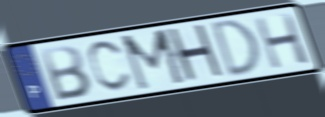B: (38, 43, 94, 103)
C: (86, 38, 134, 94)
D: (210, 17, 265, 81)
H: (165, 22, 229, 86), (252, 11, 313, 72)
M: (118, 26, 190, 94)
